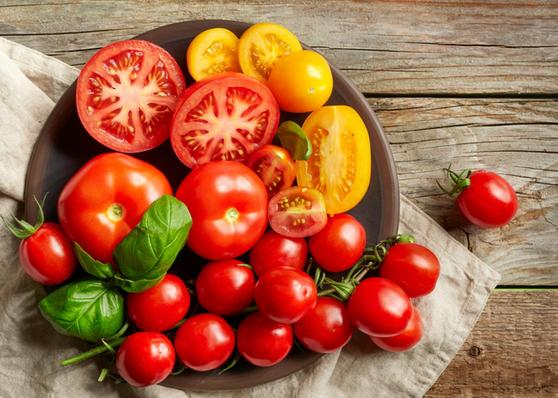tomato: (53, 150, 181, 259), (172, 159, 269, 261), (342, 274, 418, 343), (375, 232, 447, 303), (171, 304, 238, 377), (253, 261, 318, 329), (187, 261, 256, 323), (114, 328, 180, 388), (459, 159, 517, 223)
